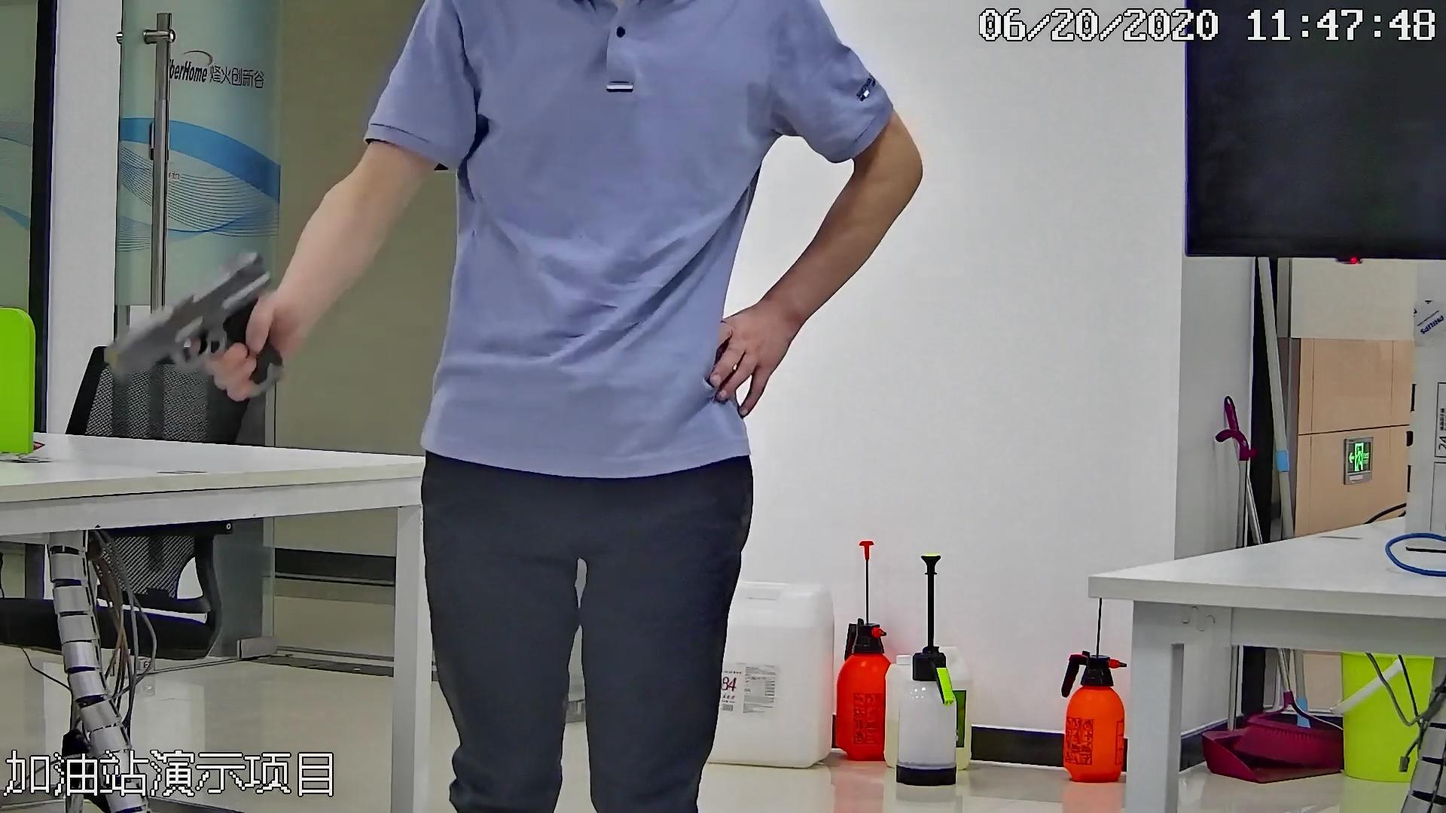gun: (97, 256, 297, 402)
